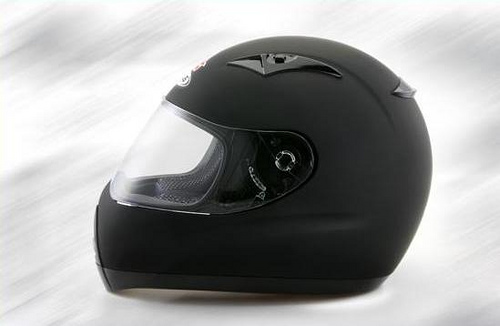helmet: (106, 48, 435, 282)
